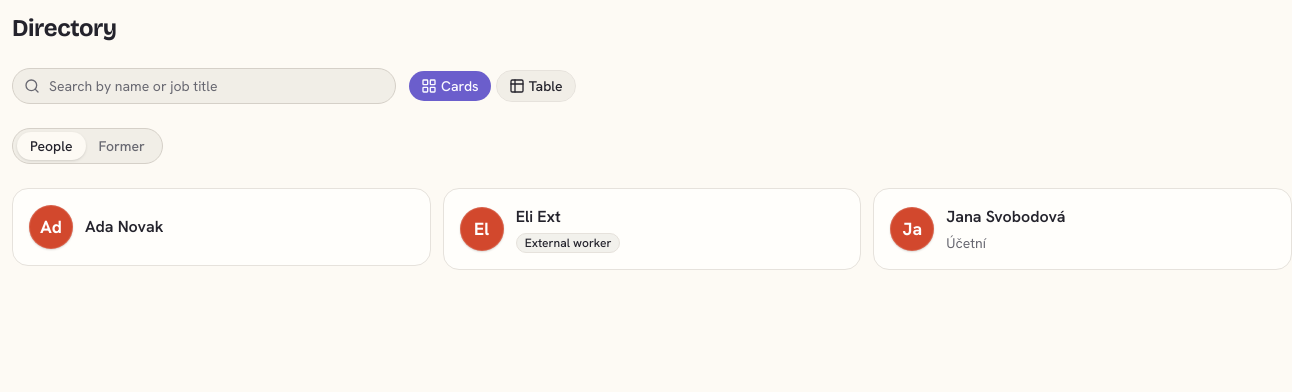
Test: DirectoryScreen › shows each former row's next removal and the hold, account deleted and rejoined markers
The width and height of the screenshot is (1292, 392).
Step 1. Click the tab "Former" → x=122, y=146, box [86, 132, 158, 160]
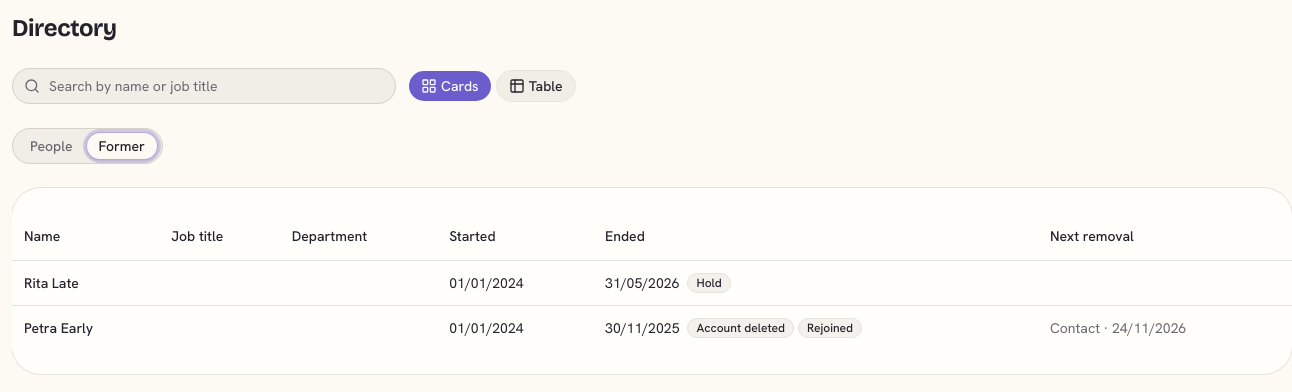
Result: the column heading "Next removal" is shown at [1038, 212, 1291, 260]
Result: the cell "Contact · 24/11/2026" is shown at [1038, 305, 1291, 350]
Result: the text with test id "marker-ACCOUNT_DELETED" reads "Account deleted" at [696, 320, 785, 336]
